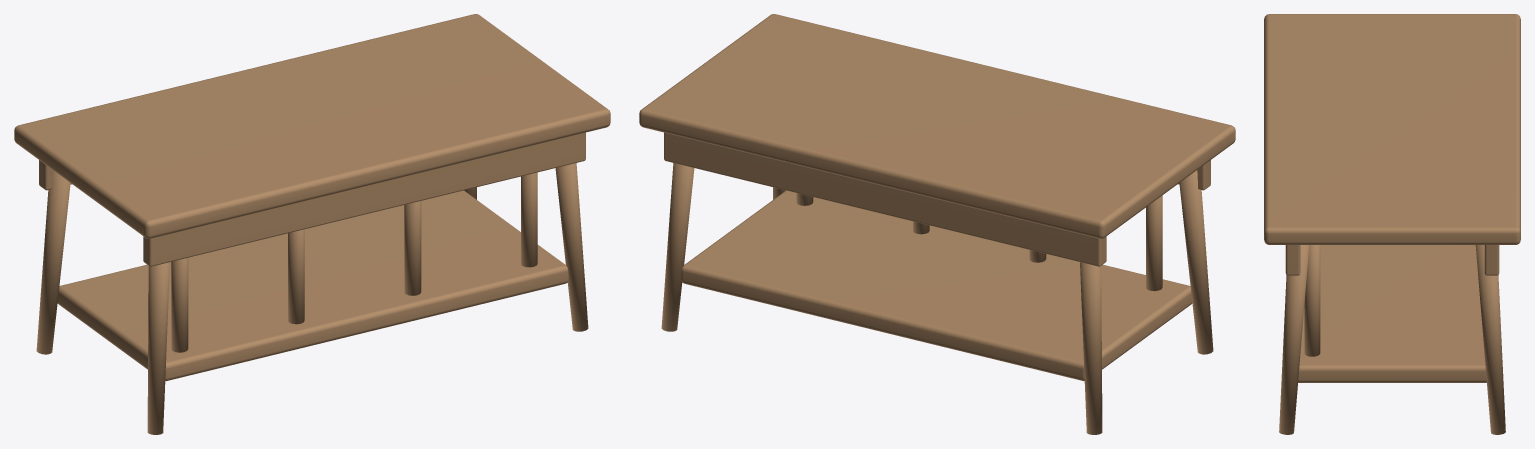
File: atelier-workbench.glb
3 views of the same model, side by side, from view 1: azimuth 30°, elevation 25°; view 2: azimuth 150°, elevation 25°; view 3: azimuth 270°, elevation 25° (orthographic). The views are drawn at different scales.
Parts seen in each view (by area): view 1: legs.047; view 2: legs.047; view 3: legs.047.
Boxes of the visible parts, left/top/right/bottom form: legs.047: left=14, top=14, right=610, bottom=434; legs.047: left=639, top=14, right=1235, bottom=434; legs.047: left=1264, top=14, right=1520, bottom=434.
Bounding box in the file's own units: 1.6 × 0.732 × 0.8.
